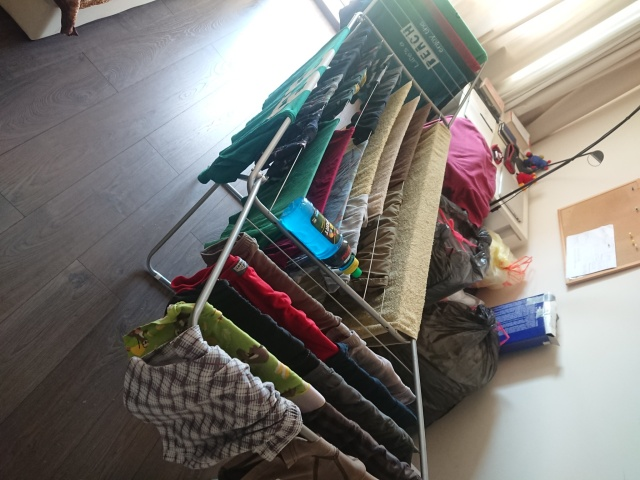Vindi Iso Sport Forest Strawberries 500mL: (278, 194, 363, 278)
